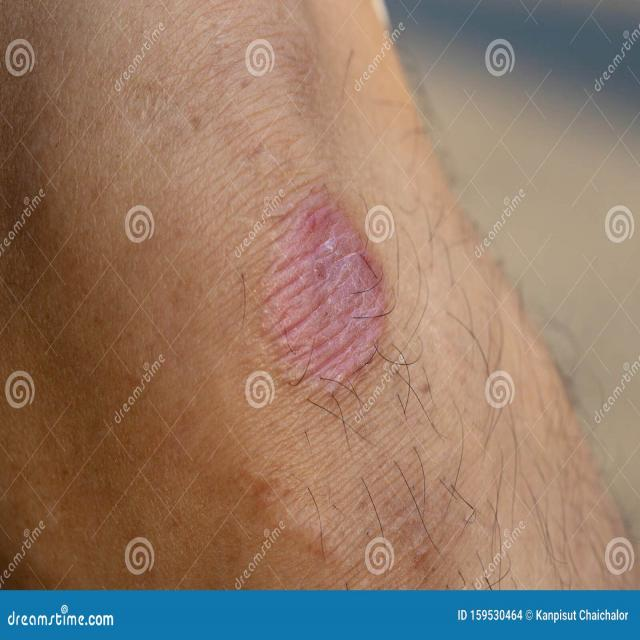tinea: (264, 204, 406, 393)
